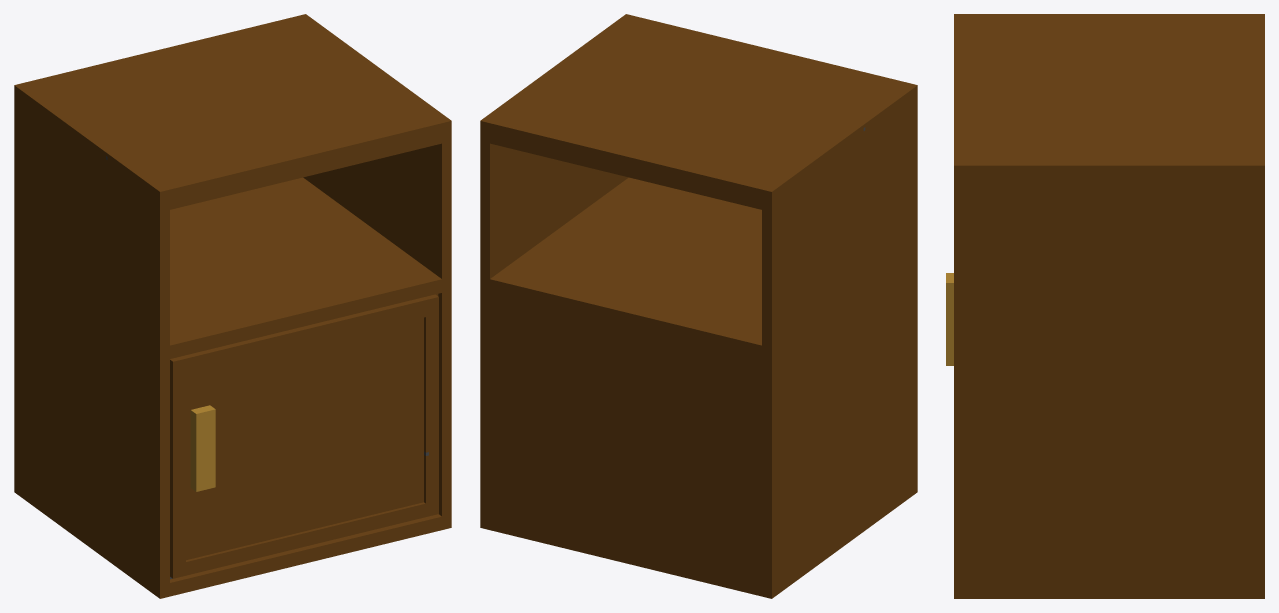
The model's file is Bed_side_table_0-3.obj.
The picture shows the model from 3 angles, left to right: view 1: azimuth 30°, elevation 25°; view 2: azimuth 150°, elevation 25°; view 3: azimuth 270°, elevation 25°; orthographic projection. The views are drawn at different scales.
Bounding box in the file's own units: 9 × 12 × 8.
Materials: 1 (1 with a texture image).
